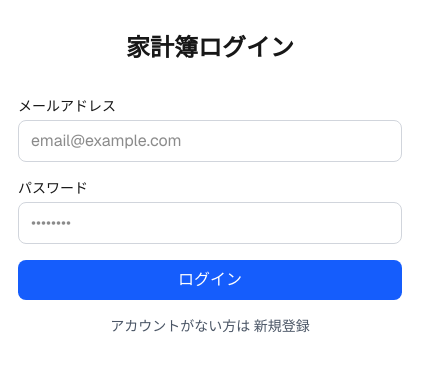
Scenario: LoginPage › displays error message on login failure
Type "test@example.com" into the field labelled "メールアドレス" at {"x": 210, "y": 141}, box top-left (18, 120), bottom-right (402, 162)
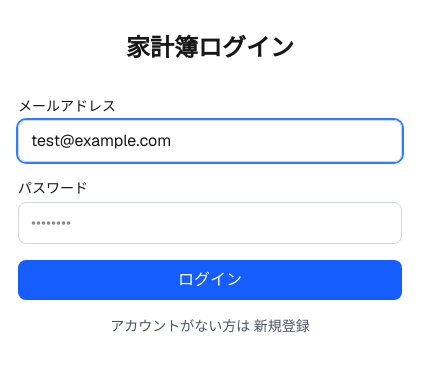
Type "wrong" into the password field labelled "パスワード" at {"x": 210, "y": 223}, box top-left (18, 202), bottom-right (402, 244)
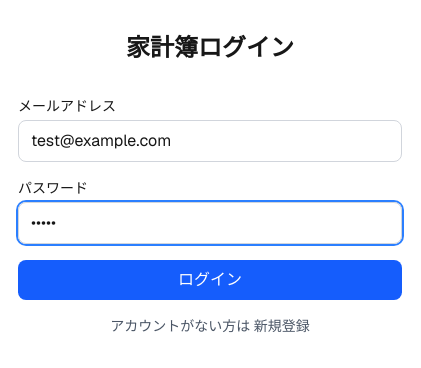
Click the button "ログイン" at {"x": 210, "y": 280}, box top-left (18, 260), bottom-right (402, 300)
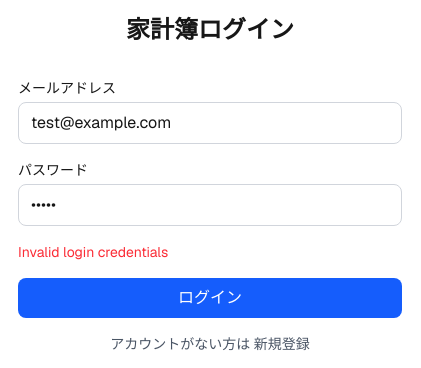
expect the text "Invalid login credentials" is shown: met, box top-left (18, 243), bottom-right (168, 261)
